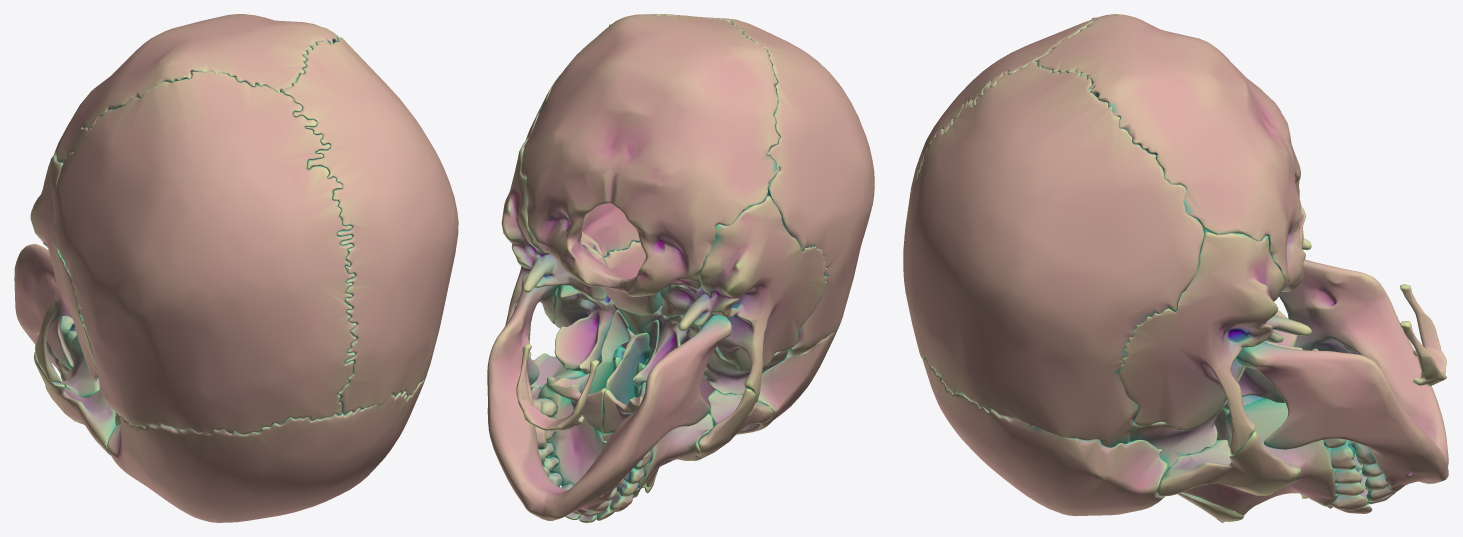
Rendered from skull.glb.
3 views of the same model, side by side, from view 1: azimuth 30°, elevation 25°; view 2: azimuth 150°, elevation 25°; view 3: azimuth 270°, elevation 25° (orthographic). The views are drawn at different scales.
Visible parts, largest first — view 1: parietal, frontal, occipital, temporal, mandible, zygomatic, maxilla; view 2: occipital, parietal, temporal, mandible, sphenoid, maxilla, frontal, palatine, zygomatic, teethUpper, hyoid, vomer (+1 smaller); view 3: parietal, occipital, mandible, temporal, frontal, maxilla, zygomatic, sphenoid, teethUpper, hyoid, teethLower, nasal.
Boxes of the visible parts, box(x1,y1,x2,y2) form: parietal: box(53, 37, 458, 434); frontal: box(107, 379, 424, 522); occipital: box(54, 14, 340, 162); temporal: box(30, 155, 98, 382); mandible: box(14, 244, 73, 373); zygomatic: box(34, 351, 116, 455); maxilla: box(61, 335, 100, 397); occipital: box(521, 14, 780, 314); parietal: box(526, 14, 874, 354); temporal: box(501, 137, 827, 402); mandible: box(487, 273, 731, 520); sphenoid: box(554, 285, 788, 394); maxilla: box(531, 369, 714, 497); frontal: box(604, 241, 842, 434); palatine: box(546, 310, 659, 433); zygomatic: box(529, 352, 772, 460); teethUpper: box(537, 398, 651, 522); hyoid: box(516, 343, 599, 431); vomer: box(602, 328, 650, 440); parietal: box(903, 20, 1204, 447); occipital: box(1035, 14, 1305, 291); mandible: box(1236, 259, 1448, 493); temporal: box(1118, 229, 1311, 455); frontal: box(922, 358, 1168, 516); maxilla: box(1182, 398, 1338, 515); zygomatic: box(1156, 431, 1298, 496); sphenoid: box(1129, 310, 1302, 468); teethUpper: box(1323, 438, 1372, 513); hyoid: box(1400, 284, 1446, 386); teethLower: box(1350, 441, 1394, 504); nasal: box(1177, 492, 1244, 522).
Size of the model in its own units: 151 by 209 by 215.
